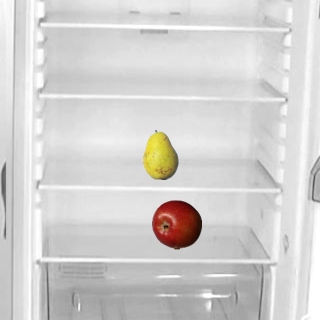Apple Braeburn: (151, 199, 201, 249)
Pear Monster: (135, 129, 185, 179)
